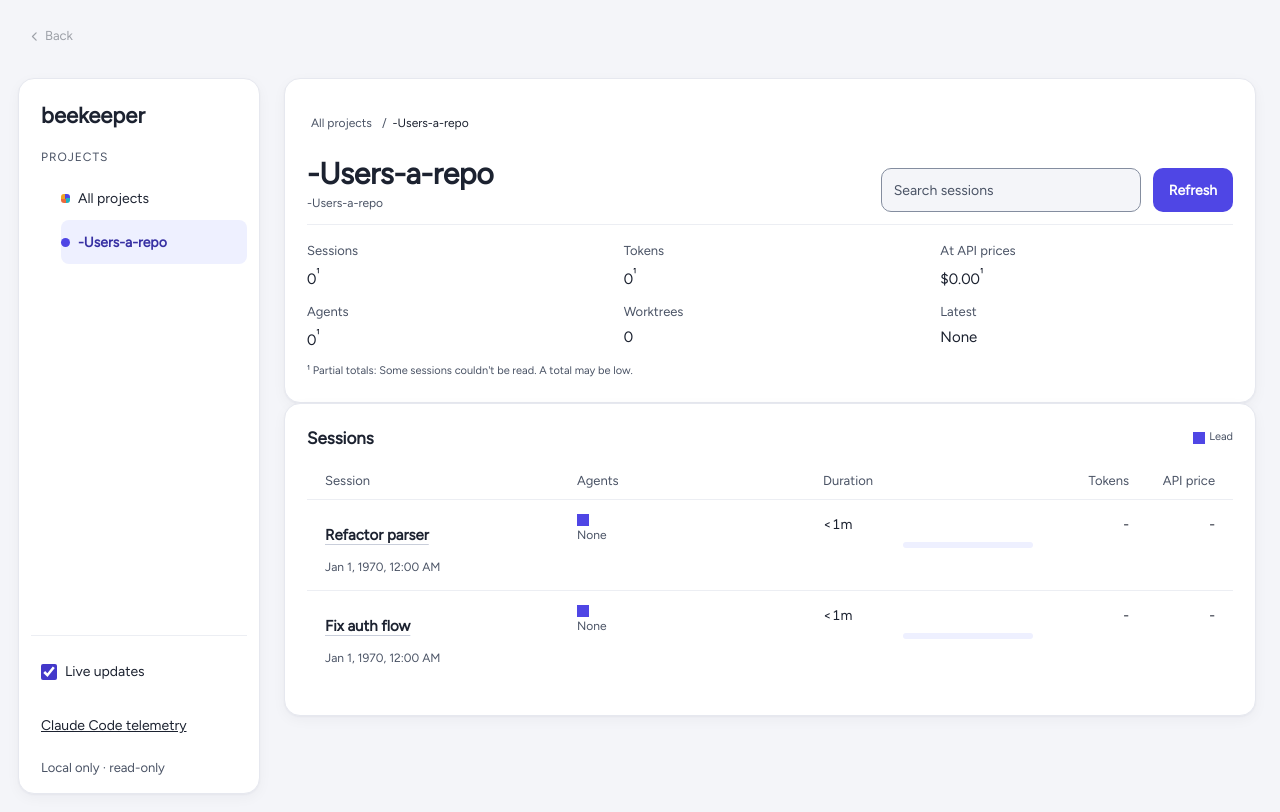
it: session search by subagent › shows one card with no "matching subagent" line when the title and a subagent both match
In the search field labelled "Search sessions": (1011,190) left=881, top=168, right=1141, bottom=212, type "auth flow"
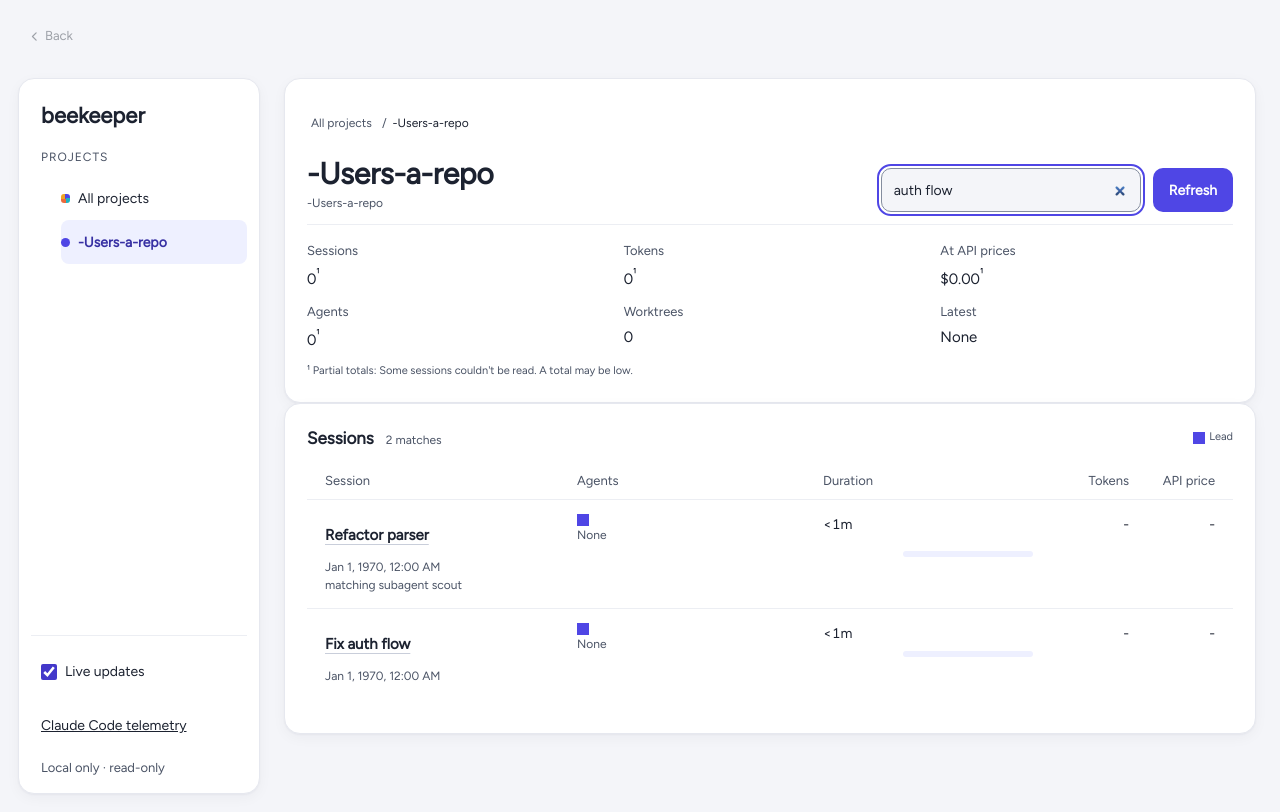
Expected: the number of buttons "Fix auth flow" is 1, left=325, top=622, right=410, bottom=666
Expected: the text "matching subagent scout" is shown, left=325, top=578, right=462, bottom=592
